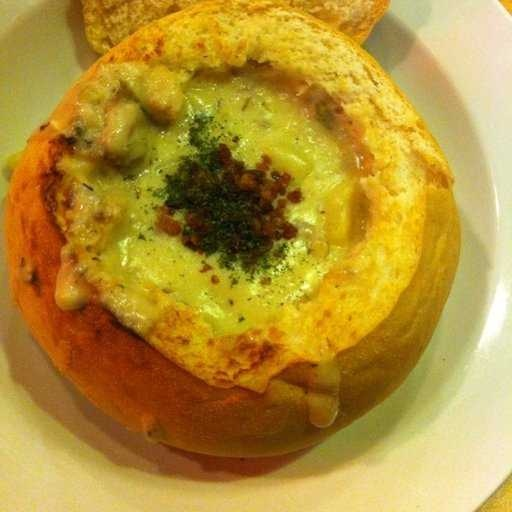soup: (41, 16, 440, 452)
